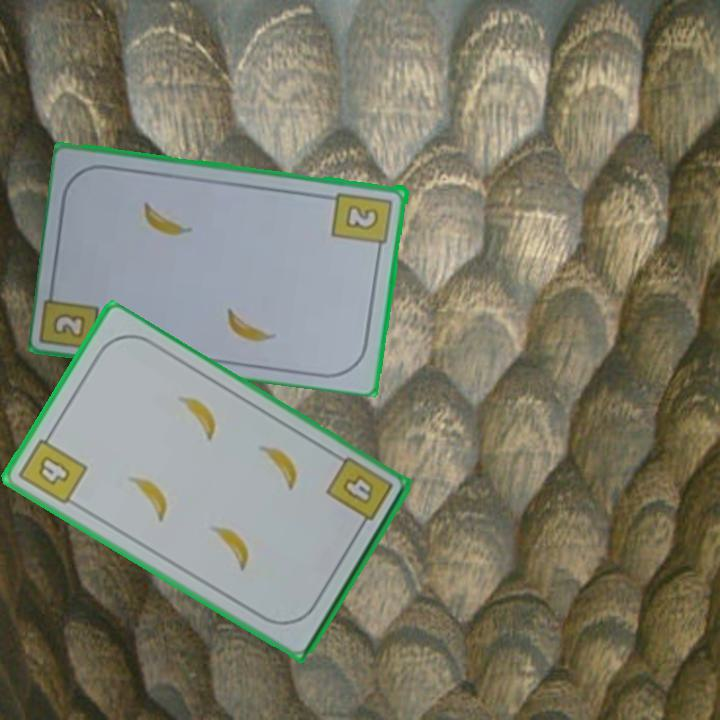2b: (330, 188, 396, 256), (49, 309, 89, 341)
4b: (14, 427, 90, 508), (322, 453, 396, 534)
